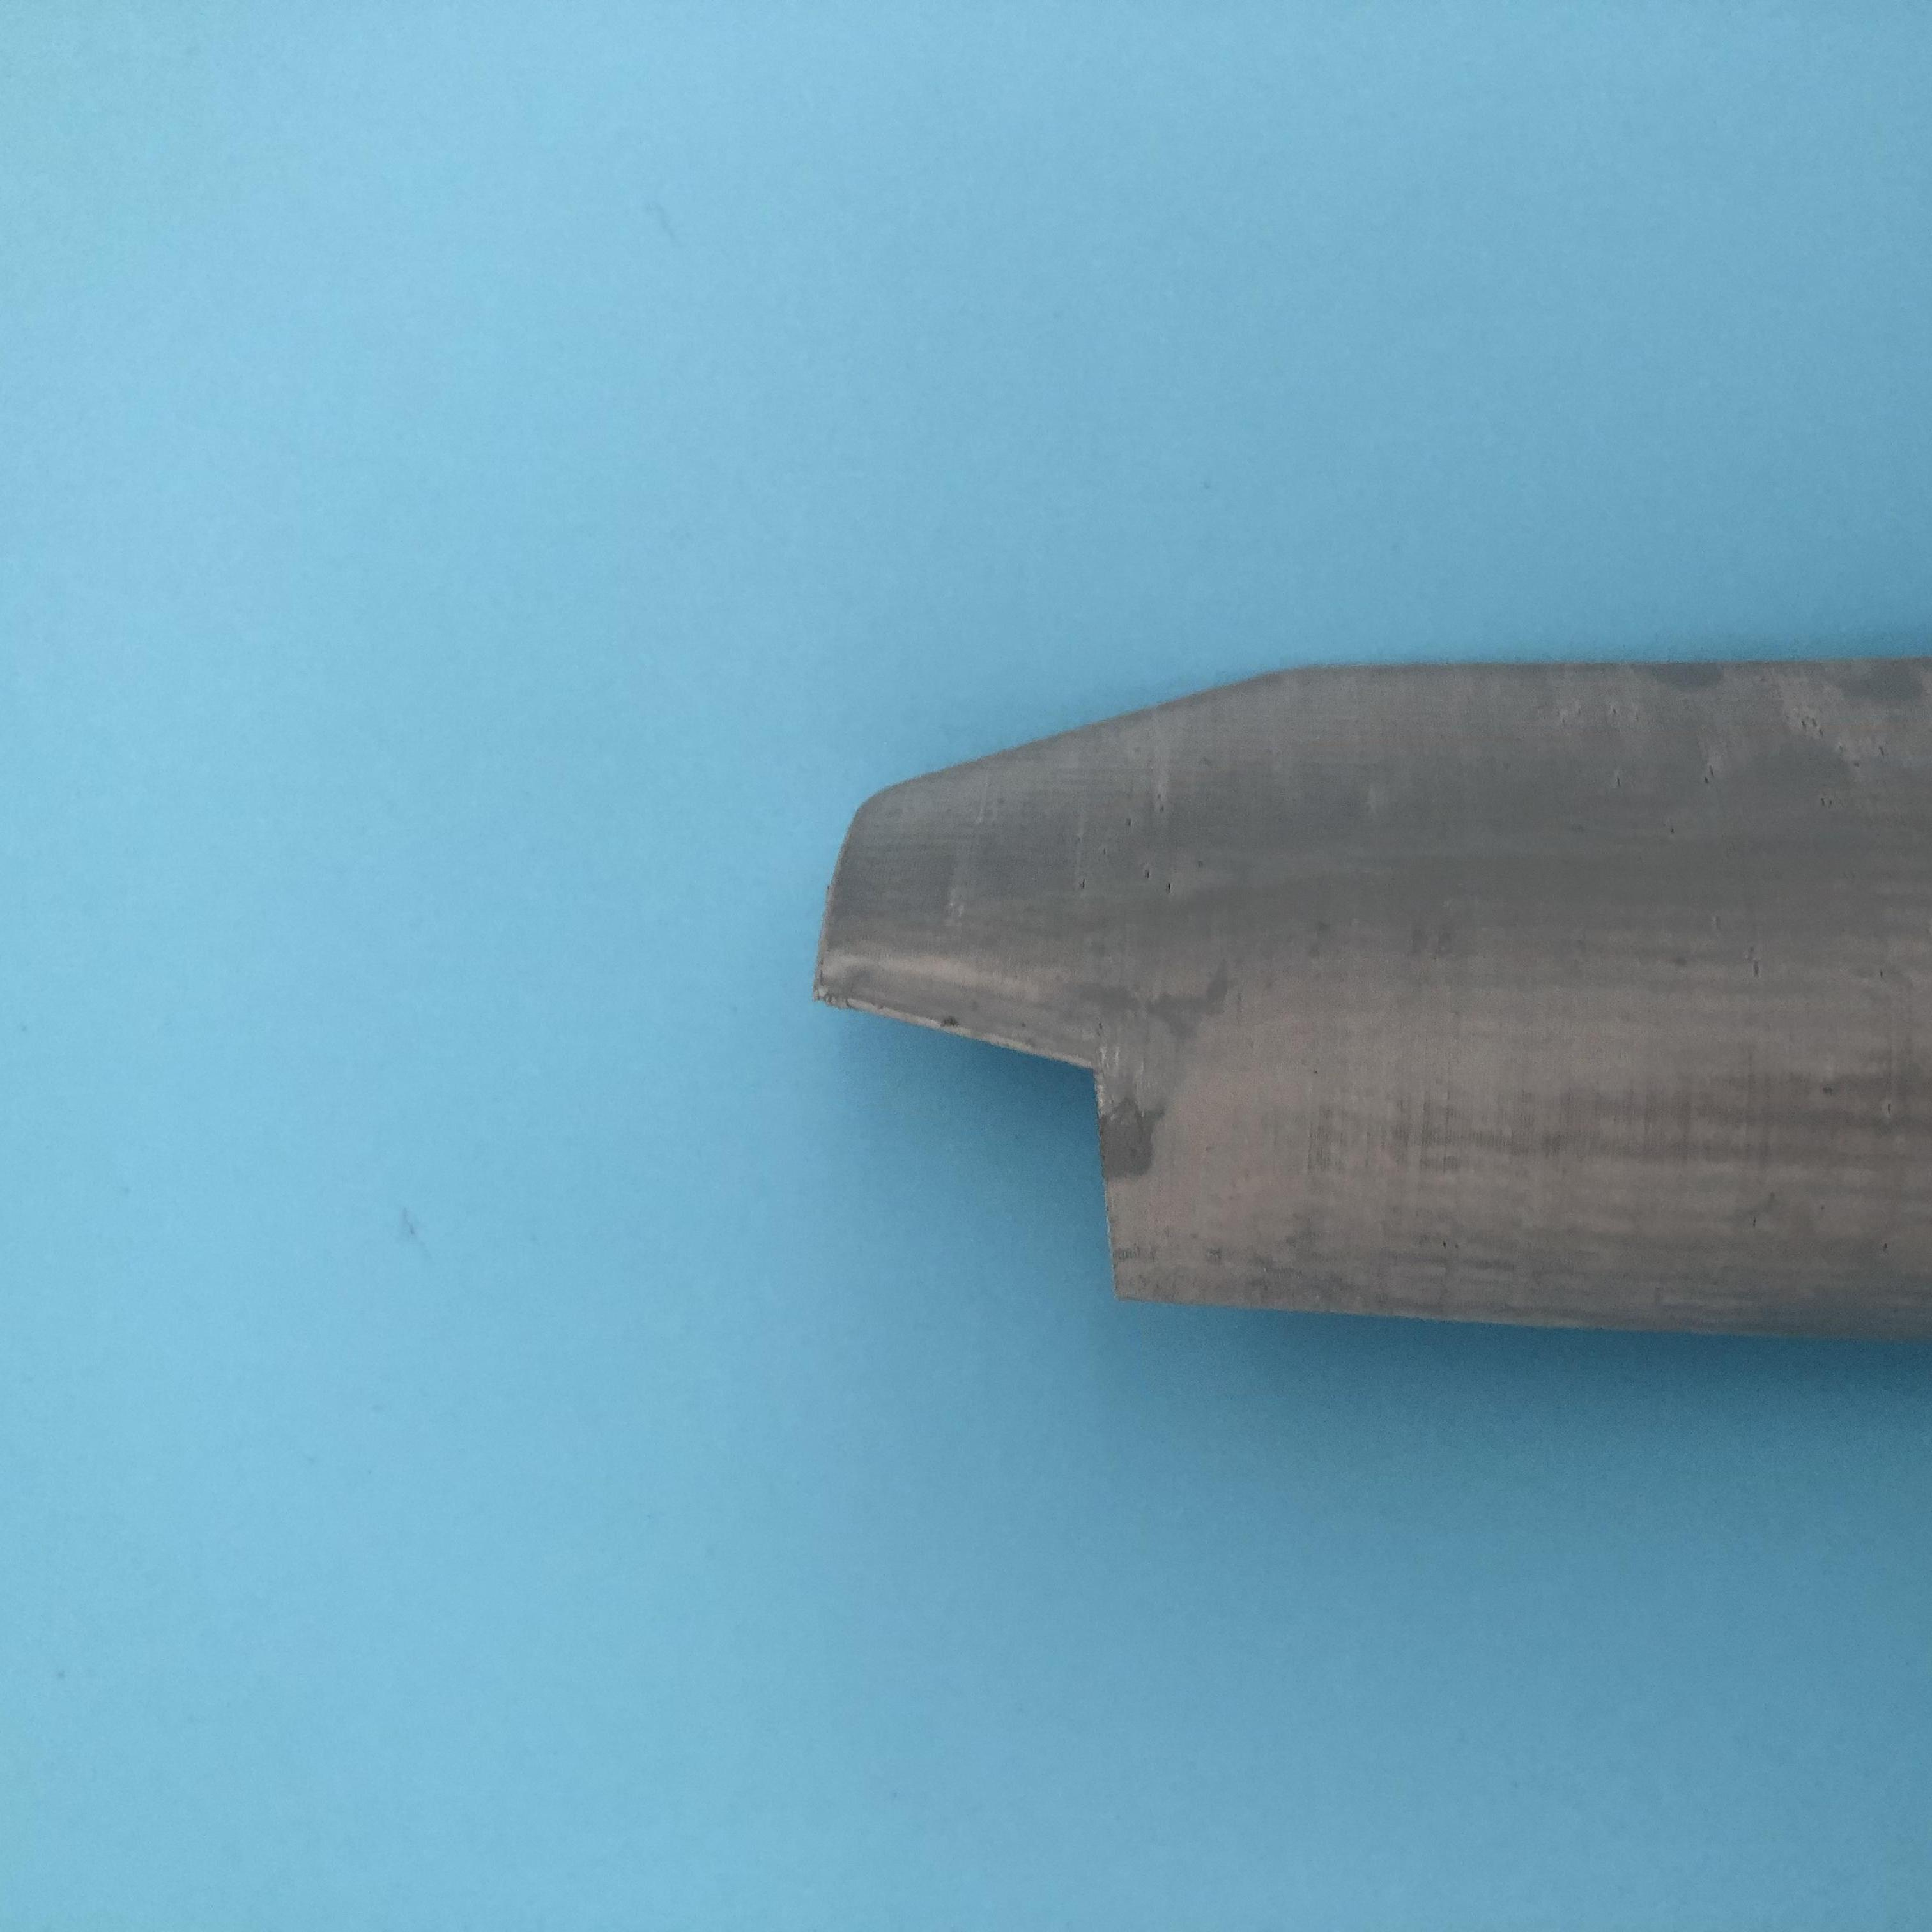fracture: (807, 955, 1150, 1299)
